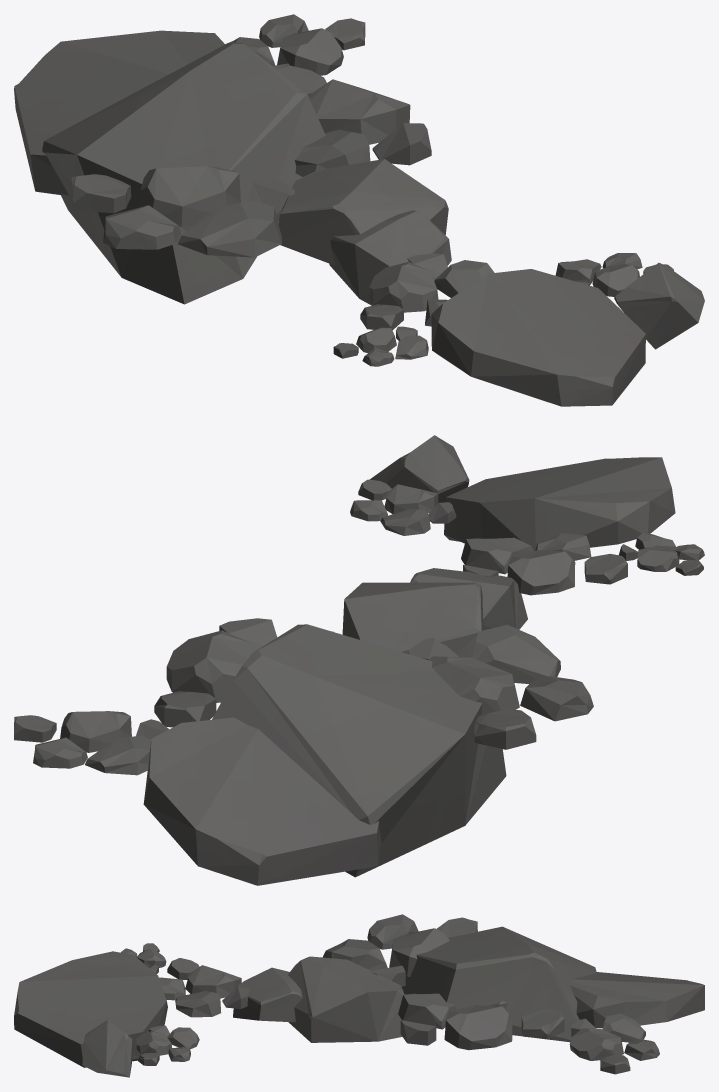
Rendered from Rock_Debris_04.fbx.
3 renders of one model, top to bottom at view 1: azimuth 30°, elevation 25°; view 2: azimuth 150°, elevation 25°; view 3: azimuth 270°, elevation 25°, orthographic. The views are drawn at different scales.
Parts seen in each view (by area): view 1: SM_Rock_Debris_04.mo; view 2: SM_Rock_Debris_04.mo; view 3: SM_Rock_Debris_04.mo.
Part boxes in pixels (x1=…): SM_Rock_Debris_04.mo: x1=14, y1=14, x2=704, y2=406; SM_Rock_Debris_04.mo: x1=14, y1=435, x2=704, y2=885; SM_Rock_Debris_04.mo: x1=14, y1=914, x2=704, y2=1077.
Size of the model in its own units: 282 by 107 by 569.
1 material, 1 textured.
